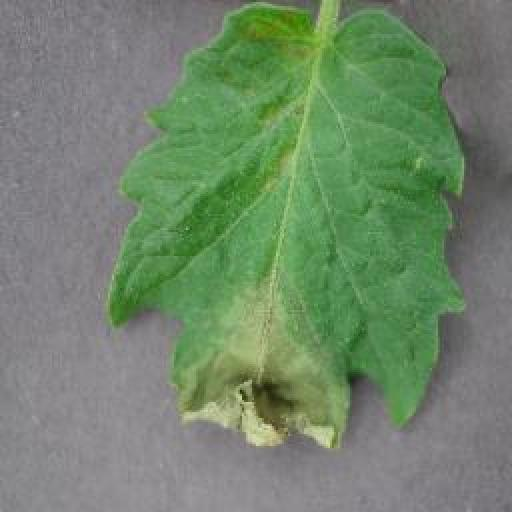Late Blight: (108, 1, 472, 447)
